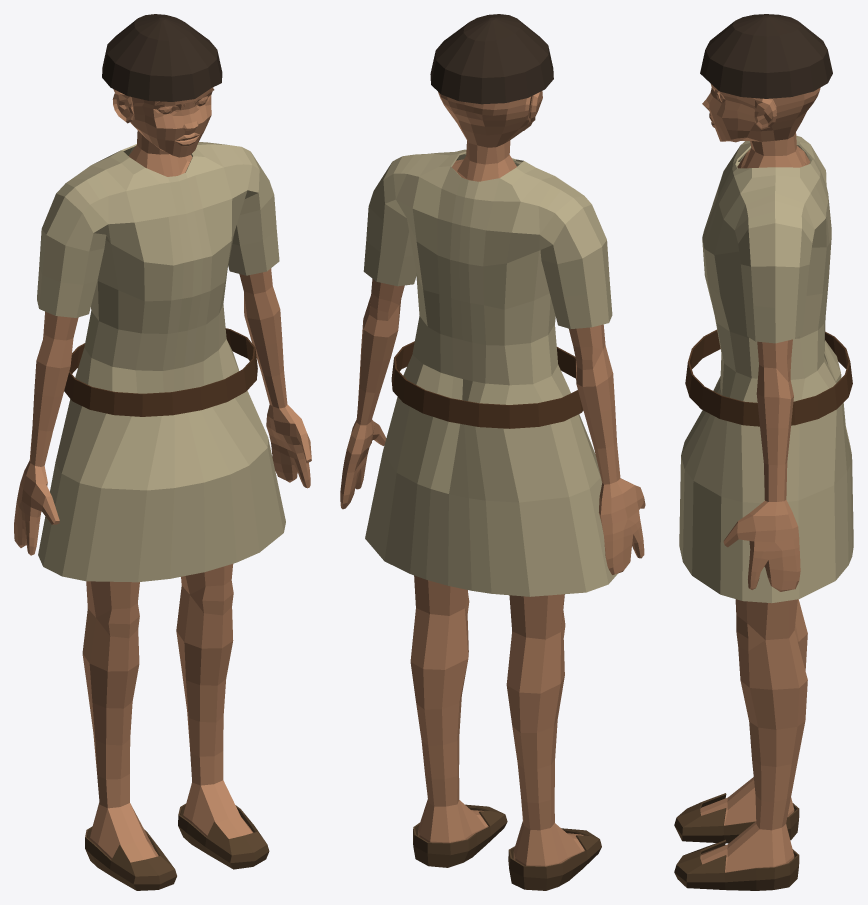
Rendered from citizen.glb.
The picture shows the model from 3 angles, left to right: view 1: azimuth 30°, elevation 25°; view 2: azimuth 150°, elevation 25°; view 3: azimuth 270°, elevation 25°; orthographic projection. The views are drawn at different scales.
Visible parts, largest first — view 1: citizen_RomanTunic, citizen_CharacterBase, citizen_HairCap, citizen_LeatherBelt, citizen_RomanSandals; view 2: citizen_RomanTunic, citizen_CharacterBase, citizen_HairCap, citizen_LeatherBelt, citizen_RomanSandals; view 3: citizen_RomanTunic, citizen_CharacterBase, citizen_HairCap, citizen_RomanSandals, citizen_LeatherBelt.
Part boxes in pixels (x1,y1,x2,y2): citizen_RomanTunic: (37,142,285,582); citizen_CharacterBase: (14,87,311,862); citizen_HairCap: (102,14,222,101); citizen_LeatherBelt: (64,328,257,416); citizen_RomanSandals: (85,803,269,890); citizen_RomanTunic: (363,149,617,596); citizen_CharacterBase: (340,91,645,866); citizen_HairCap: (430,14,553,104); citizen_LeatherBelt: (391,341,583,428); citizen_RomanSandals: (413,804,601,890); citizen_RomanTunic: (679,135,853,603); citizen_CharacterBase: (700,84,820,872); citizen_HairCap: (700,14,832,98); citizen_RomanSandals: (674,793,799,890); citizen_LeatherBelt: (685,329,852,426).
Size of the model in its own units: 0.6533 by 1.84 by 0.3559.
